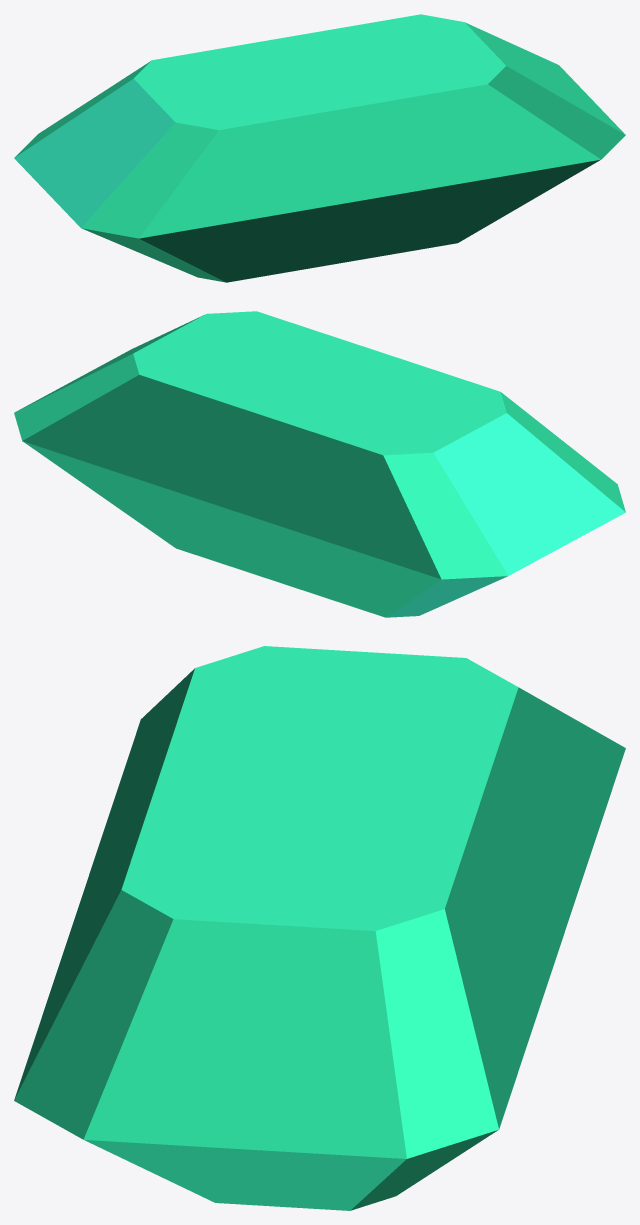
The model's file is Emerald.glb.
3 views of the same model, one above another, from view 1: azimuth 30°, elevation 25°; view 2: azimuth 150°, elevation 25°; view 3: azimuth 270°, elevation 25° (orthographic). The views are drawn at different scales.
Visible parts, largest first — view 1: Emerald_gem; view 2: Emerald_gem; view 3: Emerald_gem.
Boxes of the visible parts, <box> form: Emerald_gem: <box>14,14,625,282</box>; Emerald_gem: <box>14,311,625,617</box>; Emerald_gem: <box>14,646,625,1210</box>.
Bounding box in the file's own units: 1.27 × 0.387 × 0.7015.
